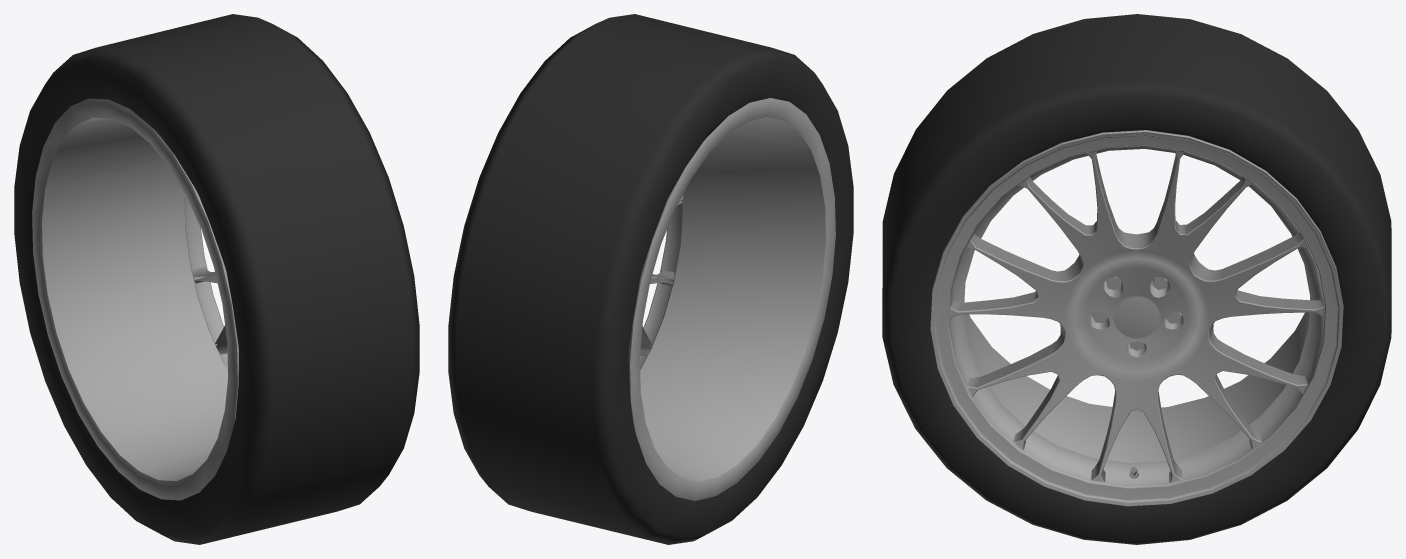
The model's file is AudiS4_wheel.glb.
3 views of the same model, side by side, from view 1: azimuth 30°, elevation 25°; view 2: azimuth 150°, elevation 25°; view 3: azimuth 270°, elevation 25° (orthographic).
Visible parts, largest first — view 1: Tyre, Rim; view 2: Tyre, Rim; view 3: Tyre, Rim.
Boxes of the visible parts, <box> form: Tyre: <box>14,14,419,544</box>; Rim: <box>32,98,238,500</box>; Tyre: <box>448,14,853,544</box>; Rim: <box>628,98,835,500</box>; Tyre: <box>882,14,1391,544</box>; Rim: <box>930,130,1343,506</box>.
Size of the model in its own units: 0.241 by 0.6528 by 0.6494.
Materials: 2 (1 with a texture image).
